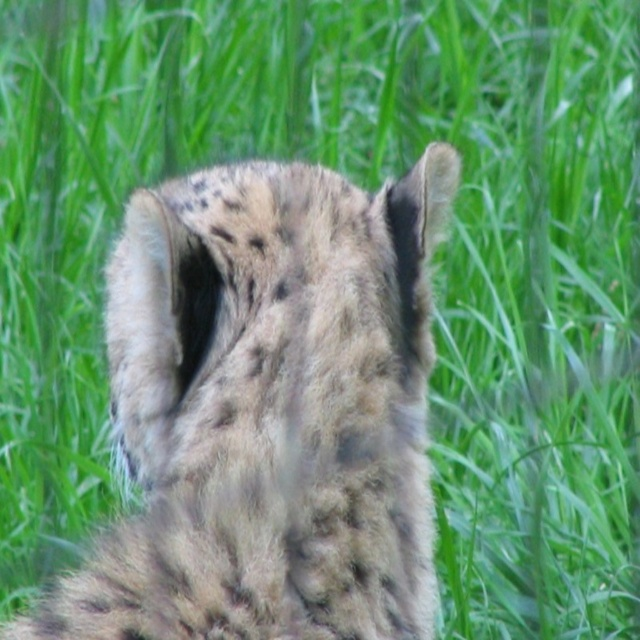Cheetah: (0, 140, 464, 640)
